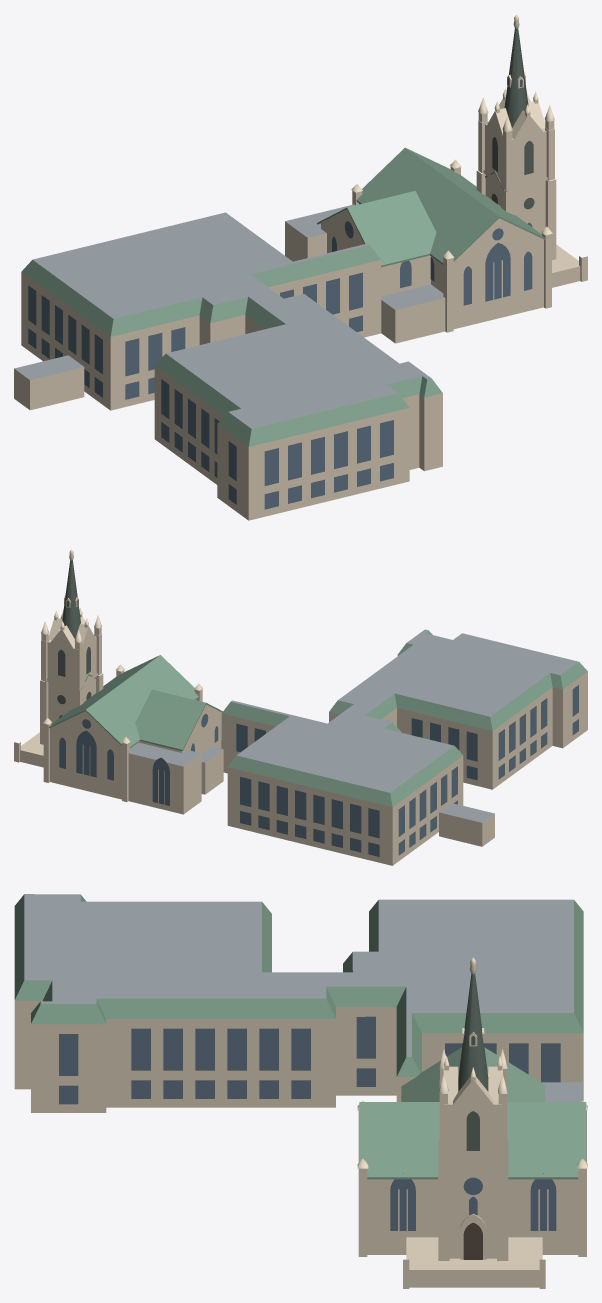
File: ral-first-baptist-church.glb
3 views of the same model, one above another, from view 1: azimuth 30°, elevation 25°; view 2: azimuth 150°, elevation 25°; view 3: azimuth 270°, elevation 25° (orthographic). The views are drawn at different scales.
Parts seen in each view (by area): view 1: First Baptist Church of Raleigh; view 2: First Baptist Church of Raleigh; view 3: First Baptist Church of Raleigh.
Part boxes in pixels (x1,y1,x2,y2): First Baptist Church of Raleigh: (14,14,587,520); First Baptist Church of Raleigh: (14,549,587,865); First Baptist Church of Raleigh: (14,894,587,1288).
Size of the model in its own units: 86.22 by 38.1 by 64.56.
